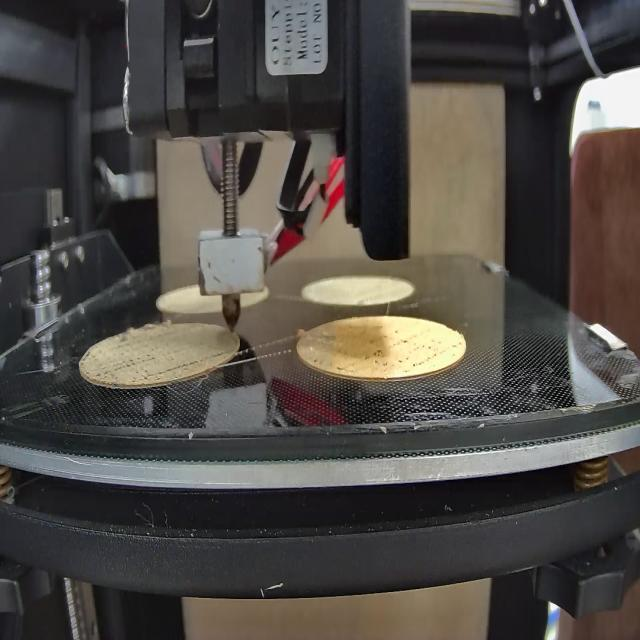under_extrusion: (84, 334, 230, 384), (362, 324, 465, 370), (311, 340, 349, 379)
